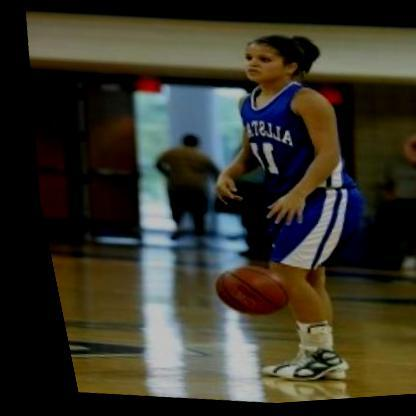basketball: (191, 256, 288, 327)
